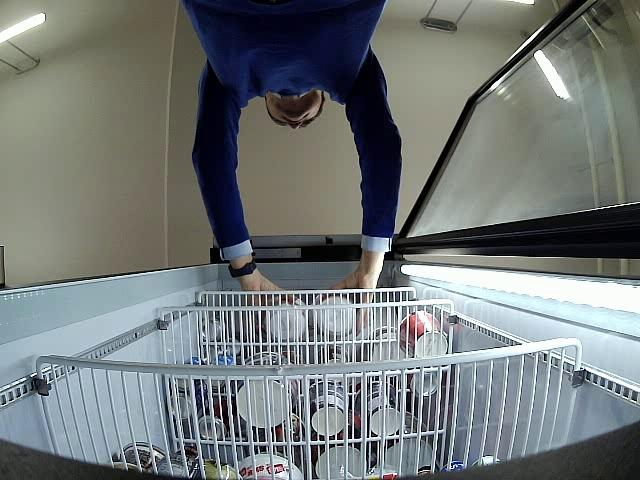00_hand: (327, 257, 384, 336), (239, 275, 295, 305)
09_yukGaeJang: (270, 300, 307, 342), (317, 294, 353, 337)
